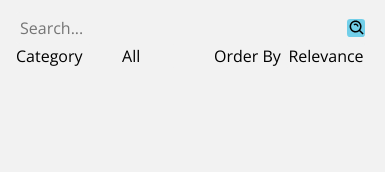
SearchForm › Search not validates when query is missing
Click the button.
click(356, 28)  # box [347, 19, 365, 37]
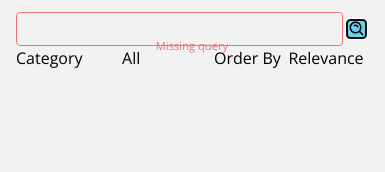
Now the text "Missing query" is shown, box [156, 38, 228, 53]
